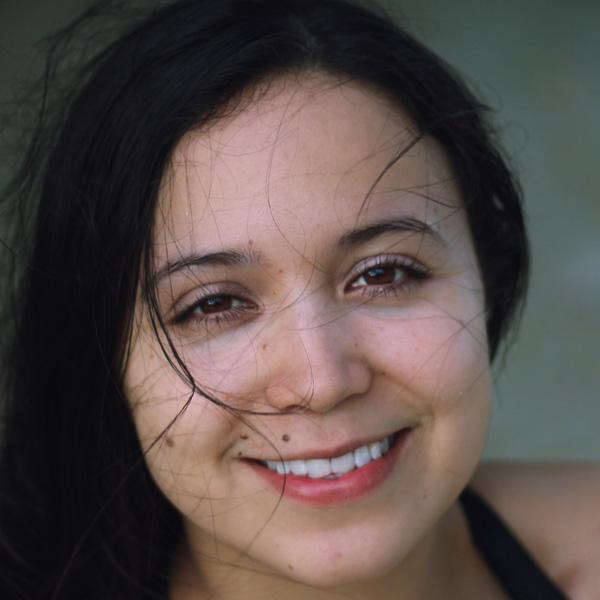Eyes: (162, 275, 267, 338), (334, 248, 437, 306)
